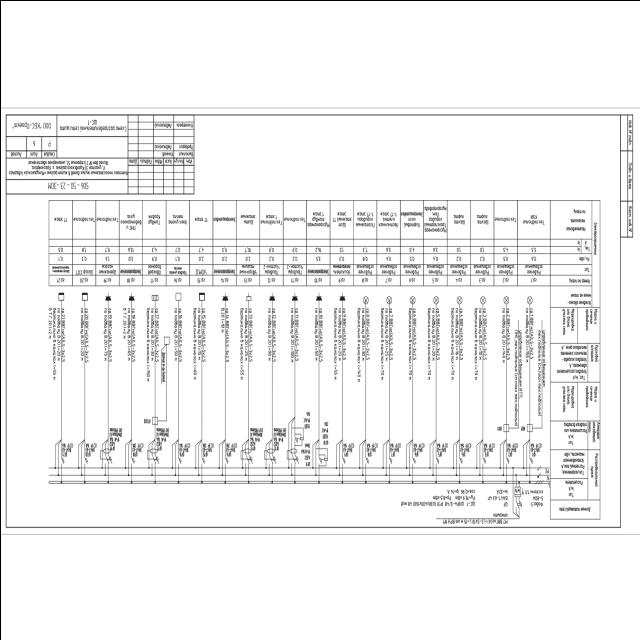-: (399, 500, 463, 506), (523, 488, 543, 507), (156, 426, 168, 451), (487, 488, 507, 502), (248, 426, 262, 446), (272, 427, 286, 446), (108, 428, 122, 446), (300, 442, 310, 459), (224, 441, 237, 452), (388, 442, 402, 452), (482, 442, 496, 452), (320, 421, 328, 438), (201, 441, 213, 452), (131, 441, 143, 452), (84, 441, 96, 452), (365, 442, 378, 452), (505, 442, 518, 452), (412, 442, 425, 452), (529, 442, 542, 452), (61, 441, 72, 452), (342, 442, 354, 452), (460, 442, 472, 452), (178, 442, 190, 452), (436, 442, 448, 452), (302, 411, 309, 428)
QF: (514, 500, 522, 510), (60, 454, 64, 466), (176, 454, 180, 466), (388, 454, 392, 466), (435, 454, 439, 466), (457, 454, 461, 466), (84, 455, 88, 466), (200, 455, 204, 466), (224, 455, 228, 466), (340, 455, 344, 466), (364, 455, 368, 466), (411, 455, 415, 466), (482, 455, 486, 466), (504, 455, 508, 466), (130, 456, 134, 466), (528, 456, 532, 466)
QFD: (290, 426, 304, 446), (314, 446, 328, 466), (238, 446, 252, 464), (262, 446, 276, 464), (146, 446, 160, 464), (98, 446, 112, 464), (286, 447, 298, 466)
WH: (514, 486, 520, 498)
